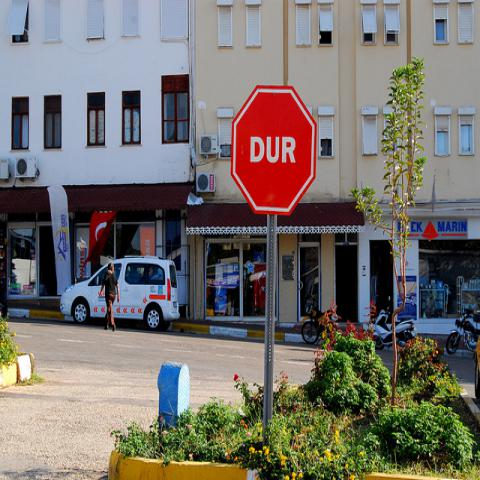car: (60, 253, 178, 327)
motorcycle: (299, 295, 417, 351), (446, 314, 480, 354)
